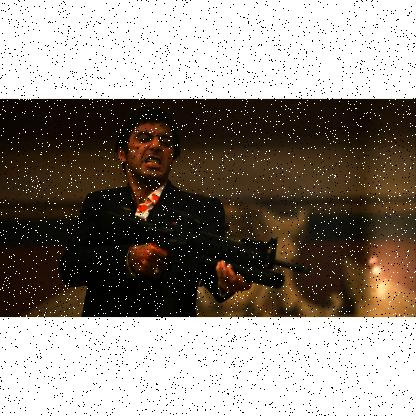gun: (86, 204, 310, 314)
